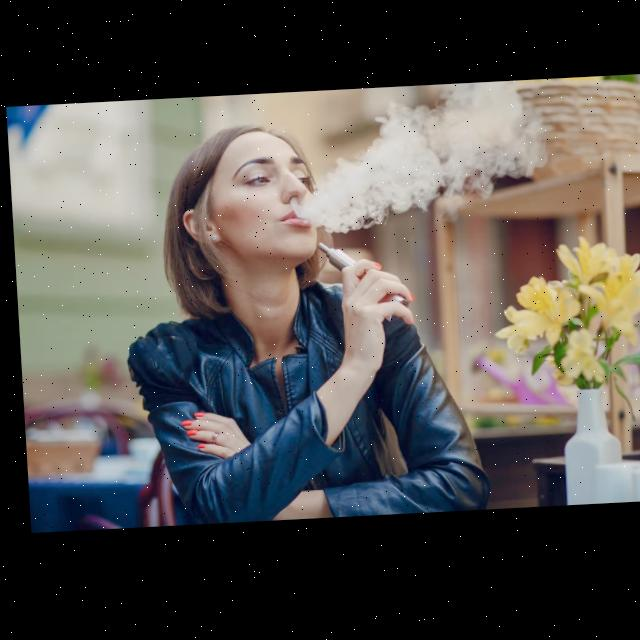vape: (314, 243, 404, 329)
